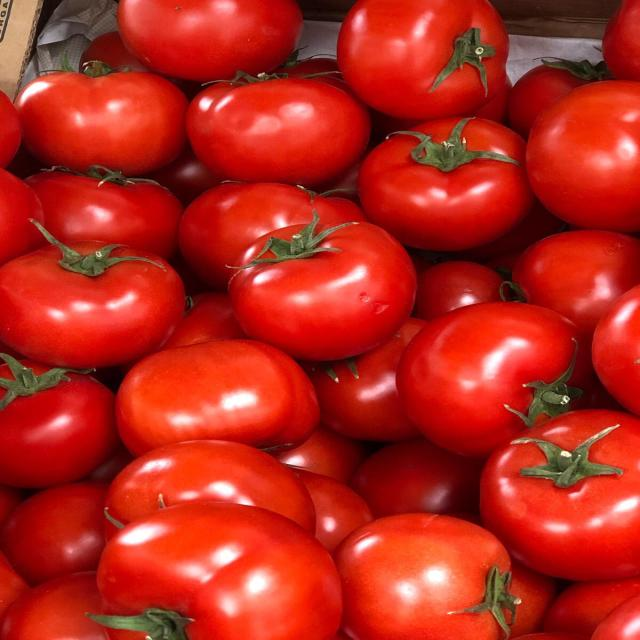tomato: (476, 406, 640, 582), (225, 213, 420, 358), (402, 298, 574, 458), (1, 225, 187, 372), (357, 109, 539, 250), (183, 66, 372, 184)
